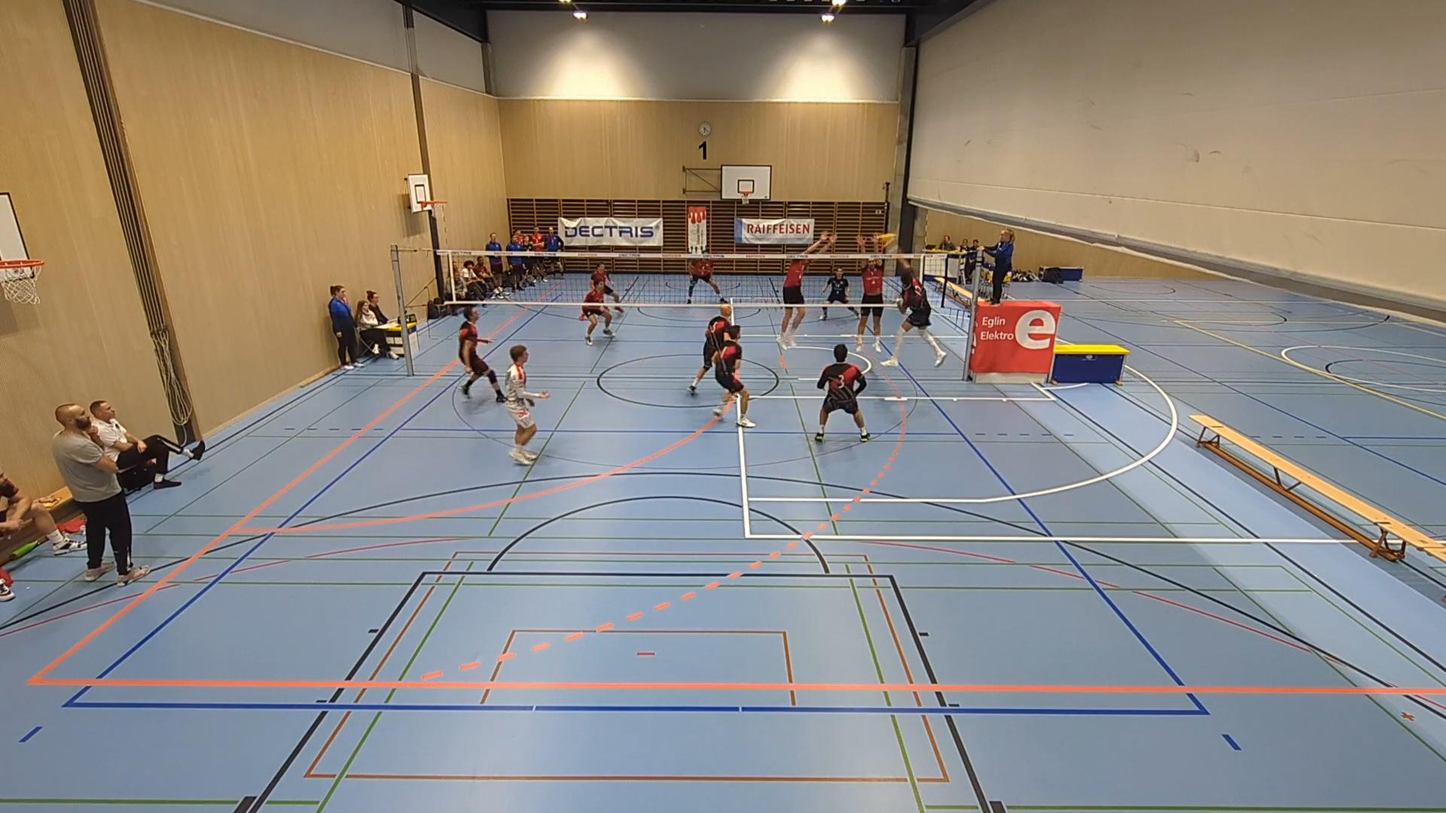Attack: (881, 246, 946, 368)
Block: (764, 228, 840, 360), (854, 227, 893, 356)
Player: (814, 343, 870, 442), (506, 344, 548, 463), (713, 324, 755, 428), (459, 305, 504, 402), (688, 303, 732, 392), (581, 282, 612, 346), (819, 267, 849, 320), (687, 258, 720, 303), (590, 262, 619, 303)
ball: (874, 229, 897, 243)
